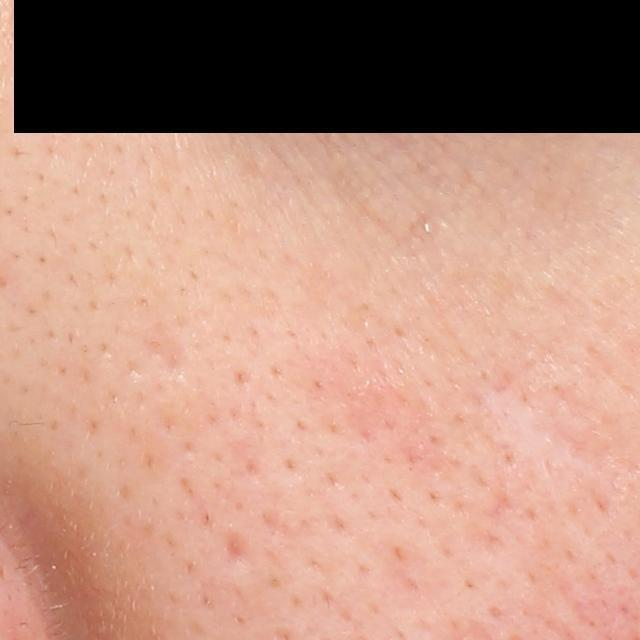atrophic_scar: (141, 326, 189, 385), (220, 530, 260, 577)
